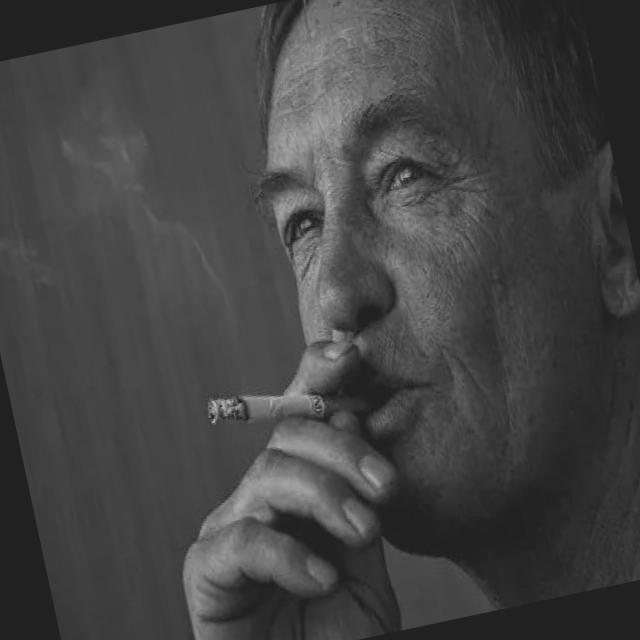smoke: (198, 353, 384, 463)
